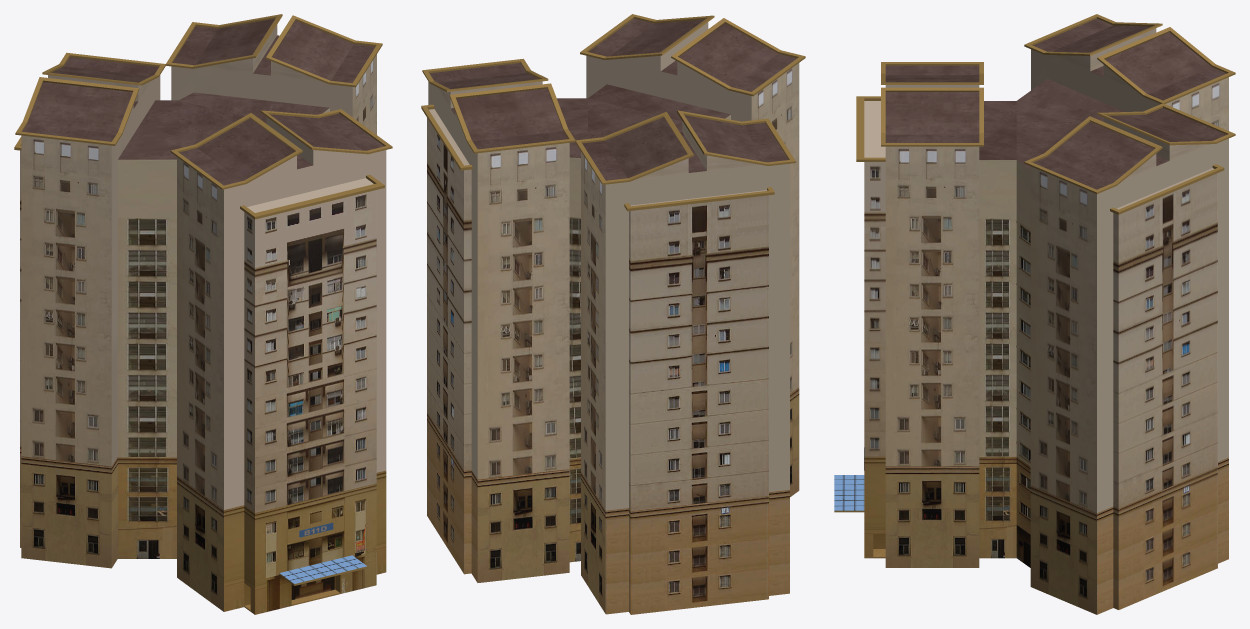
The picture shows the model from 3 angles, left to right: view 1: azimuth 30°, elevation 25°; view 2: azimuth 150°, elevation 25°; view 3: azimuth 270°, elevation 25°; orthographic projection. The views are drawn at different scales.
Visible parts, largest first — view 1: HN492___B11D_Nam_Trung_Yen; view 2: HN492___B11D_Nam_Trung_Yen; view 3: HN492___B11D_Nam_Trung_Yen.
Boxes of the visible parts, box(x1,y1,x2,y2) form: HN492___B11D_Nam_Trung_Yen: box(14, 14, 392, 614); HN492___B11D_Nam_Trung_Yen: box(421, 14, 805, 614); HN492___B11D_Nam_Trung_Yen: box(834, 14, 1235, 614).
Size of the model in its own units: 45.22 by 52.34 by 42.95.
1 material, 1 textured.
